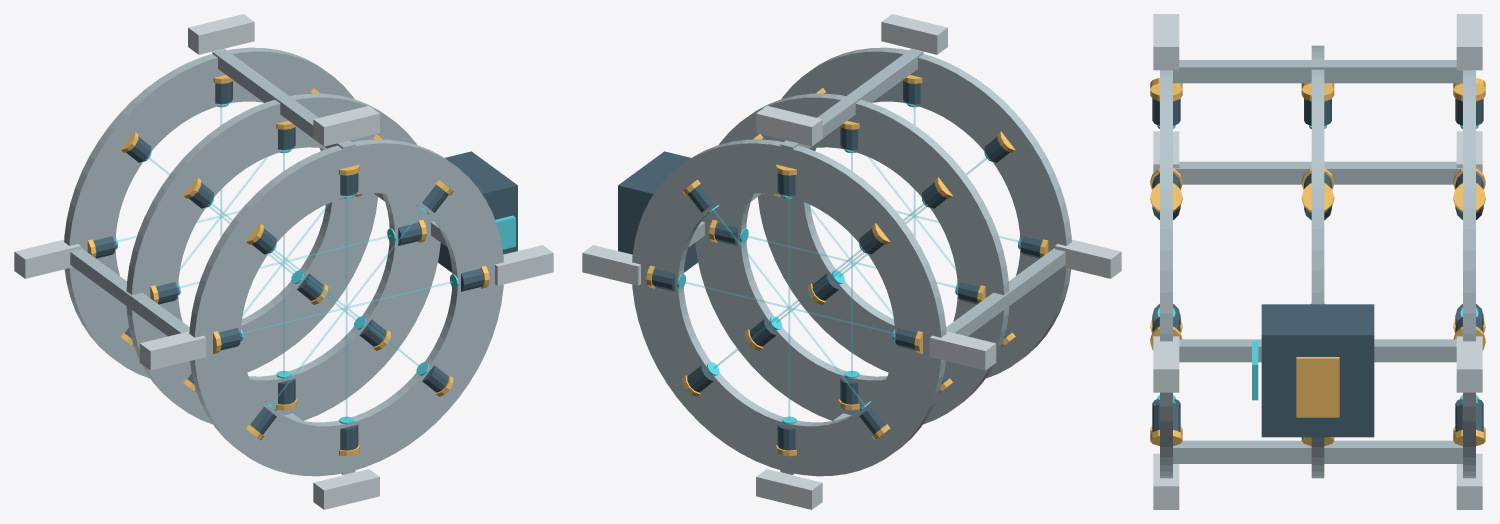
The model's file is MOSAIC-optical-cage.glb.
The picture shows the model from 3 angles, left to right: view 1: azimuth 30°, elevation 25°; view 2: azimuth 150°, elevation 25°; view 3: azimuth 270°, elevation 25°; orthographic projection. The views are drawn at different scales.
Parts seen in each view (by area): view 1: frame, mount, housing, path, amber, optics; view 2: frame, mount, housing, path, amber, optics; view 3: frame, housing, mount, amber, optics.
Part boxes in pixels (x1,y1,x2,y2): frame: (64,47,503,476); mount: (14,14,553,509); housing: (93,81,517,450); path: (118,107,453,419); amber: (87,75,489,456); optics: (115,103,515,424); frame: (632,47,1071,476); mount: (582,14,1121,509); housing: (618,81,1042,450); path: (682,107,1017,419); amber: (646,75,1048,456); optics: (677,103,1020,424); frame: (1160,45,1475,478); housing: (1152,98,1483,437); mount: (1153,14,1482,509); amber: (1150,78,1485,445); optics: (1157,125,1478,404).
Bounding box in the file's own units: 0.268 × 0.236 × 0.155.
